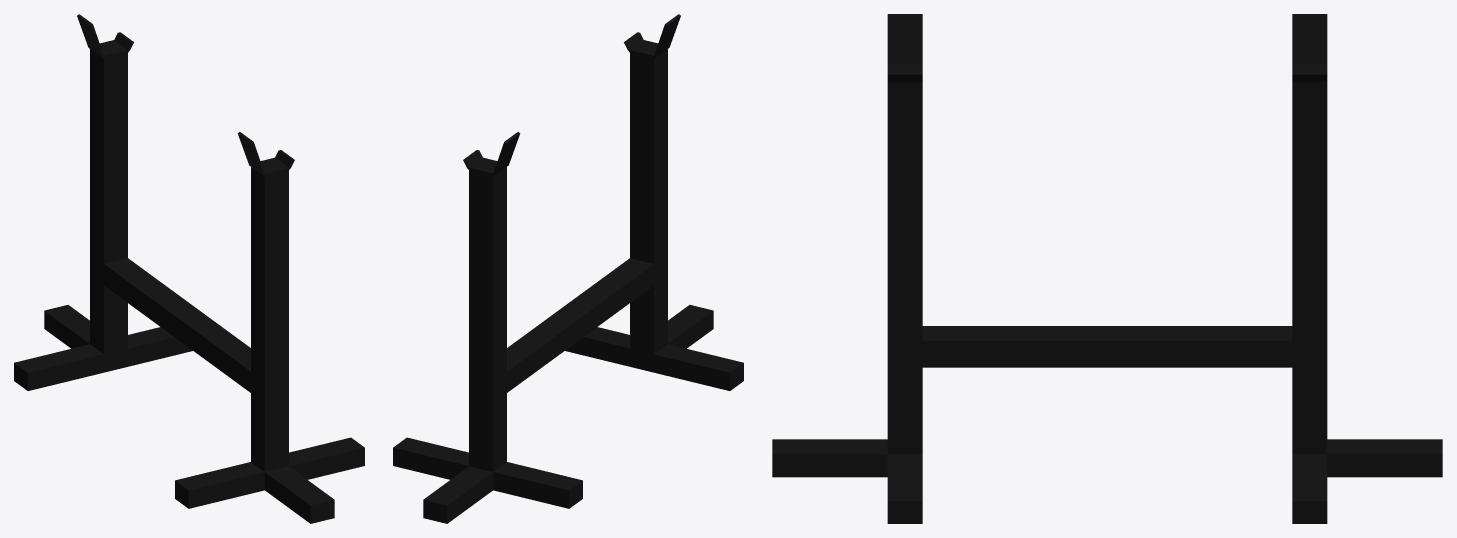
The model's file is BenchPressStand.fbx.
The picture shows the model from 3 angles, left to right: view 1: azimuth 30°, elevation 25°; view 2: azimuth 150°, elevation 25°; view 3: azimuth 270°, elevation 25°; orthographic projection. The views are drawn at different scales.
Visible parts, largest first — view 1: Cube.006; view 2: Cube.006; view 3: Cube.006.
Boxes of the visible parts, x1,y1,x2,y2 form: Cube.006: (14, 14, 364, 523); Cube.006: (393, 14, 743, 523); Cube.006: (772, 14, 1442, 523).
Bounding box in the file's own units: 243 × 463 × 636.
